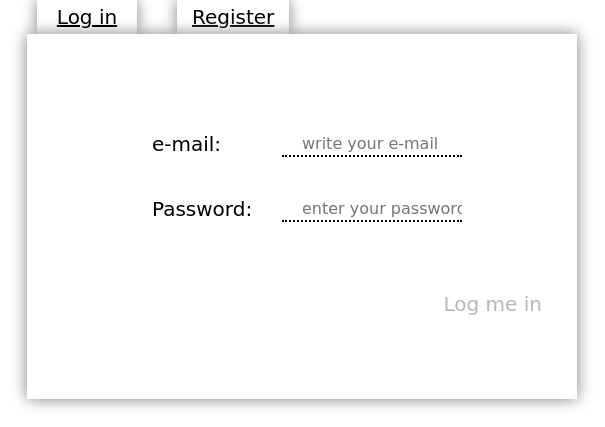
Test: Given the login page › When the submit button is clicked and a bad response is received › Then the error button should be visible
Type "badUsermail@mail.com" into the field labelled "e-mail:".
click(372, 144); type("badUsermail@mail.com")  # box [282,132,462,156]
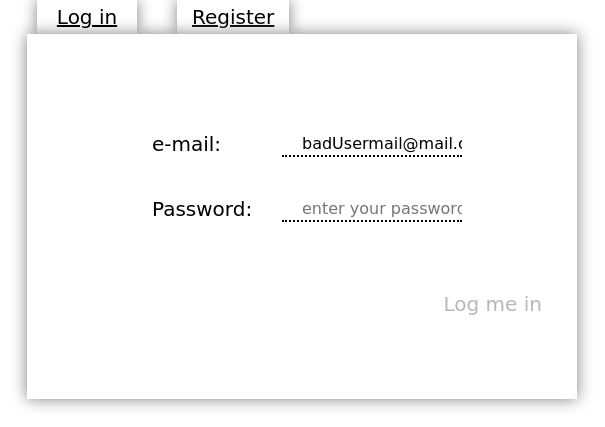
Type "userPassword" into the password field labelled "Password:".
click(372, 209); type("userPassword")  # box [282,196,462,222]
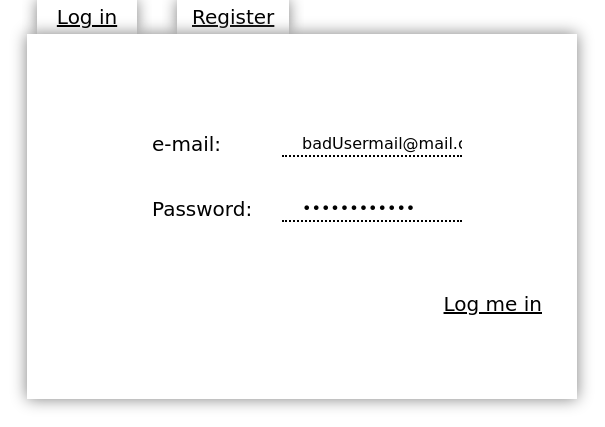
Click the button "Log me in".
click(493, 304)  # box [428,266,557,342]
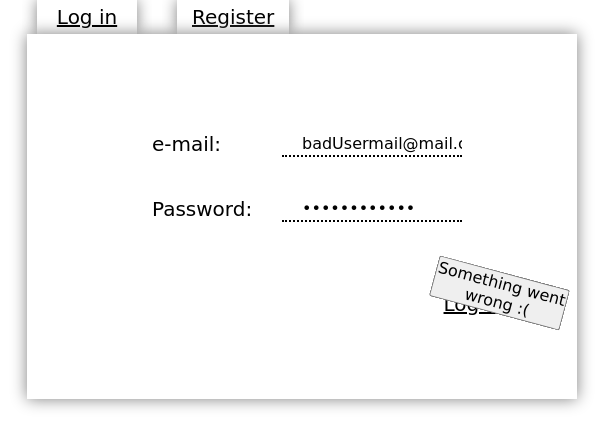
expect the button "Something went wrong :(" is shown: met, box [429,255,570,330]
